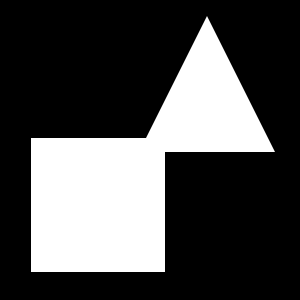circle: (31, 138, 165, 272)
triangle: (139, 16, 275, 152)
